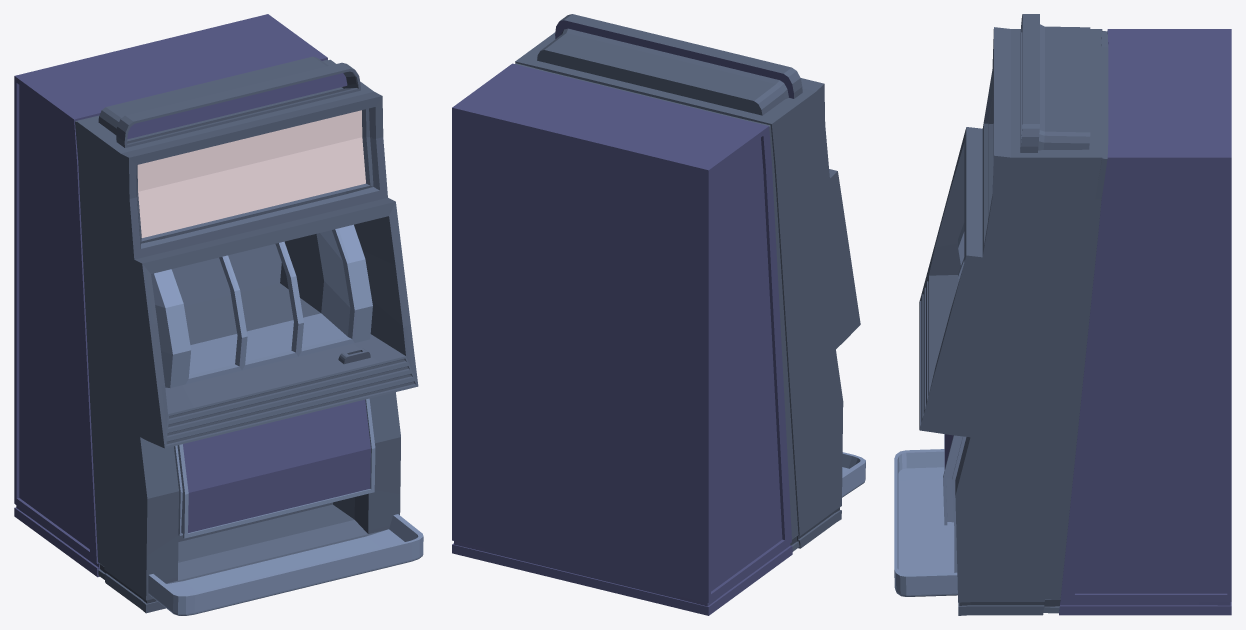
The model's file is TragaMonedas_V2.glb.
The picture shows the model from 3 angles, left to right: view 1: azimuth 30°, elevation 25°; view 2: azimuth 150°, elevation 25°; view 3: azimuth 270°, elevation 25°; orthographic projection. The views are drawn at different scales.
Visible parts, largest first — view 1: CarcasaTragaPerras; view 2: CarcasaTragaPerras; view 3: CarcasaTragaPerras.
Part boxes in pixels (<box>): CarcasaTragaPerras: <box>14,14,423,615</box>; CarcasaTragaPerras: <box>452,14,865,615</box>; CarcasaTragaPerras: <box>894,14,1231,615</box>.
Bounding box in the file's own units: 3.3 × 5.77 × 3.66.
